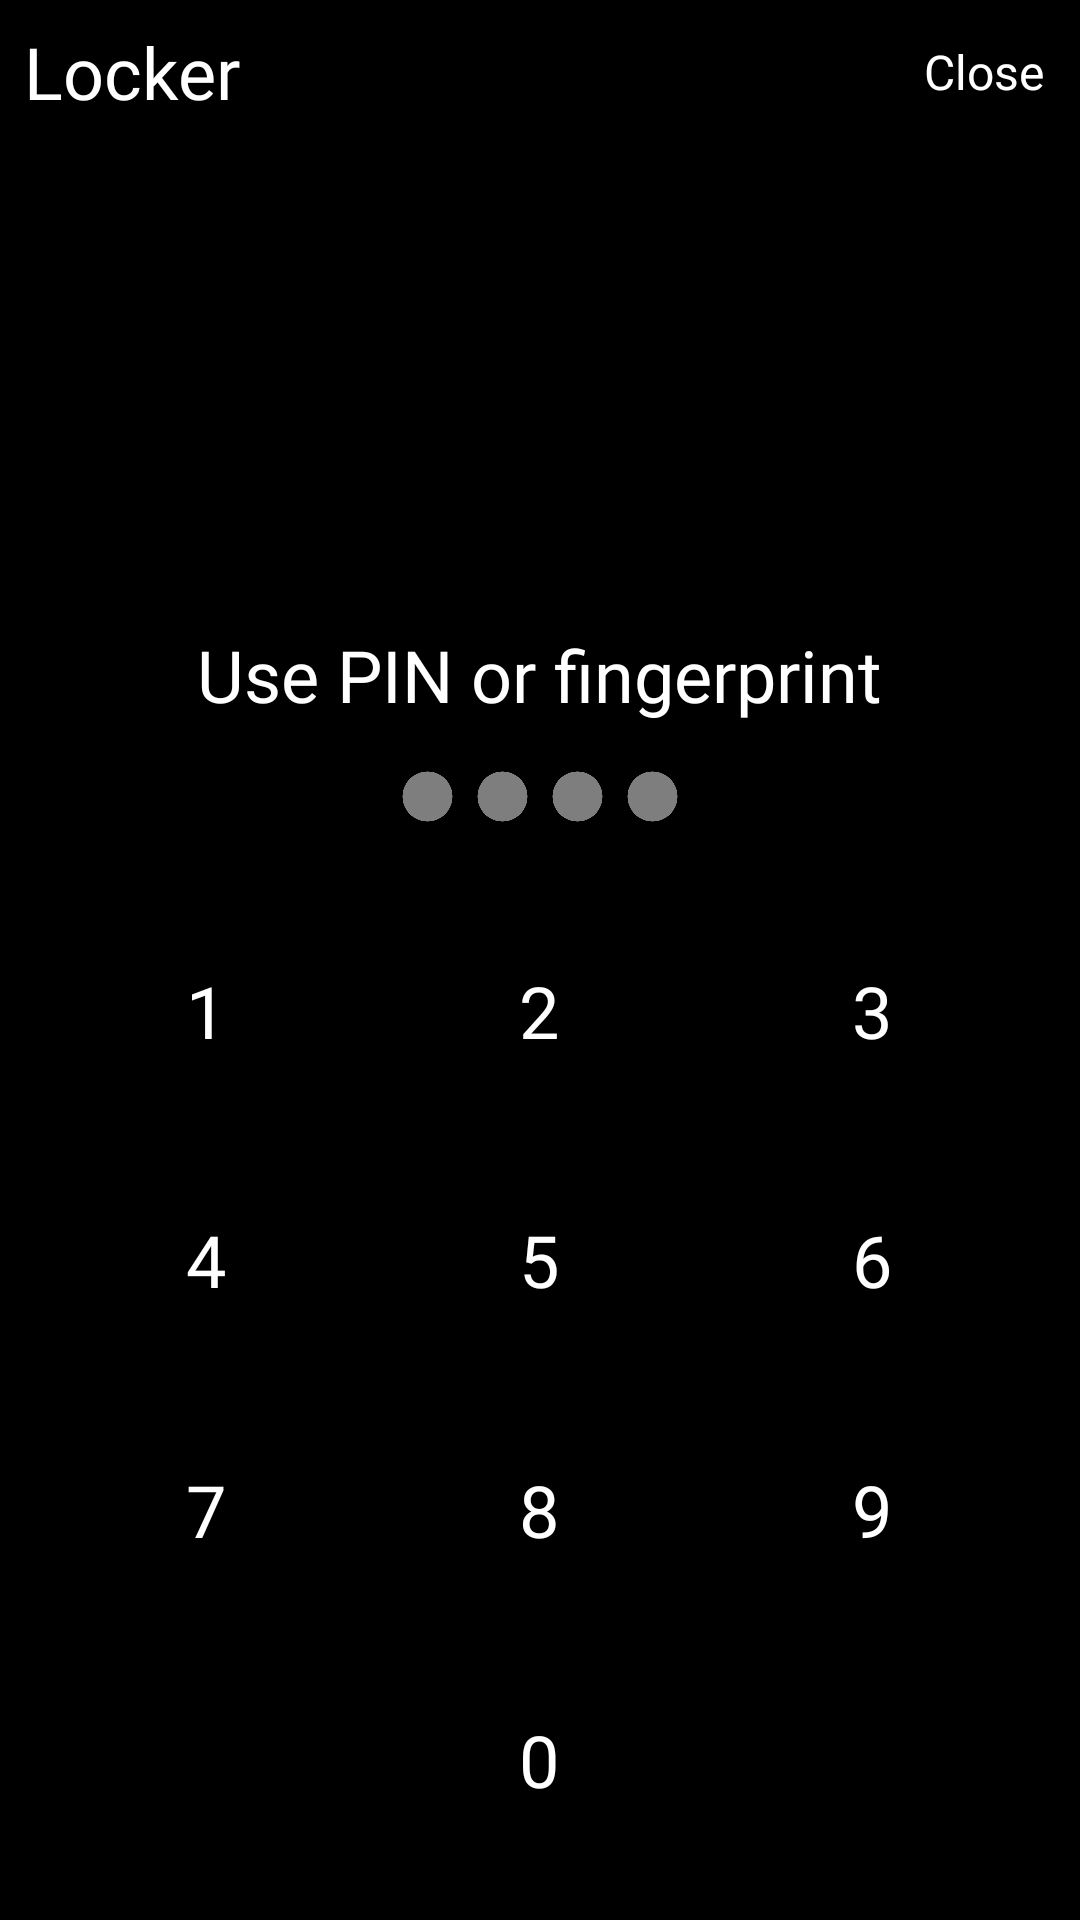

Icon click points for this 1080 × 1920 phone screenshot, format (x,y):
dot: (427,796), (502,796), (577,796), (652,796)
